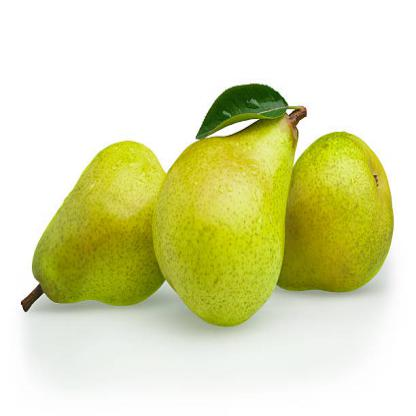Paer: (153, 112, 306, 320), (30, 146, 162, 305)
